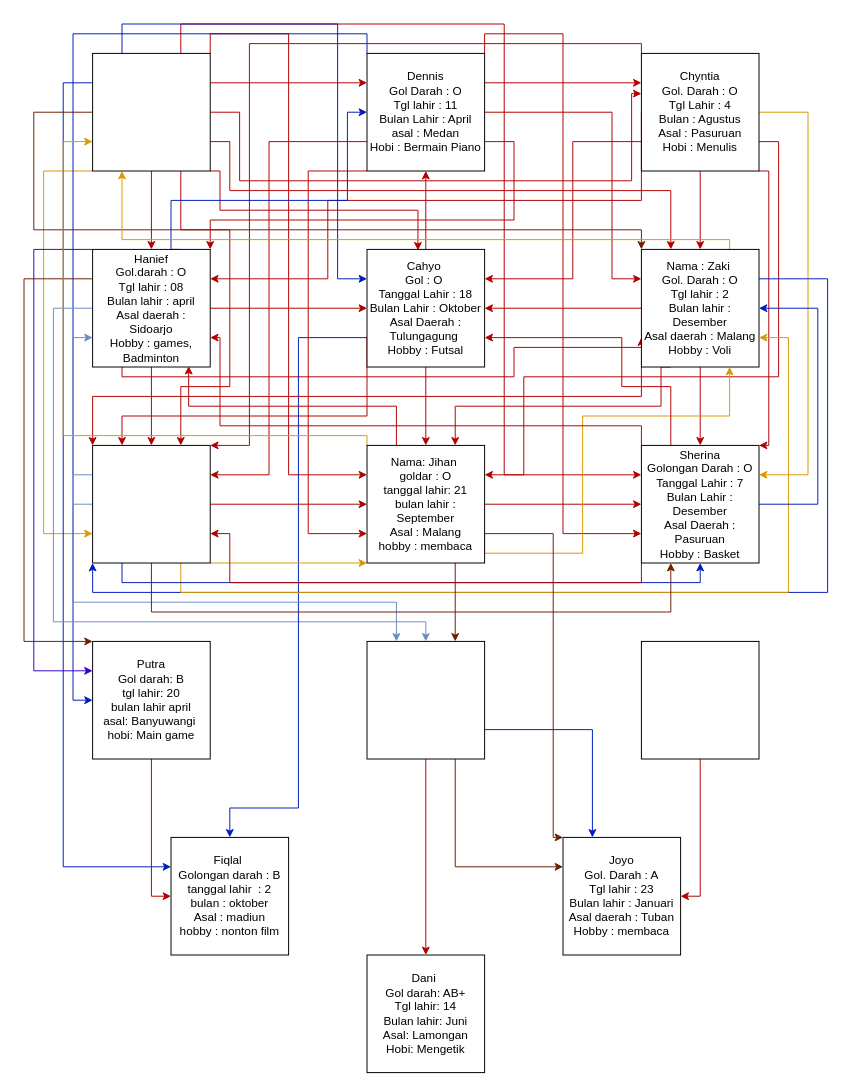
Some shapes in this 853 by 1090 pixel diagram are drawn without their labels. Here are the shapes that lost their labels. From the top down, the centre of each, then its label:
point (151, 111): Rochman Gol darah: O Tgl lahir:15 Bulan: Oktober Asal: Malang Hobby: Voli
point (151, 503): Ravi Goldar: O tanggal lahir: 8 Desember Asal daerah: Malang Hobi: Basket
point (425, 699): Nurul Gol. Darah:AB tgl lahir:8 Bulan : Januari Asal: Probolinggo Hobi: membaca
point (699, 699): Syifa Gol darah: A Tgl lahir: 9 Bulan lahir: Juli Asal: Bontang Hobi: Menggambar
